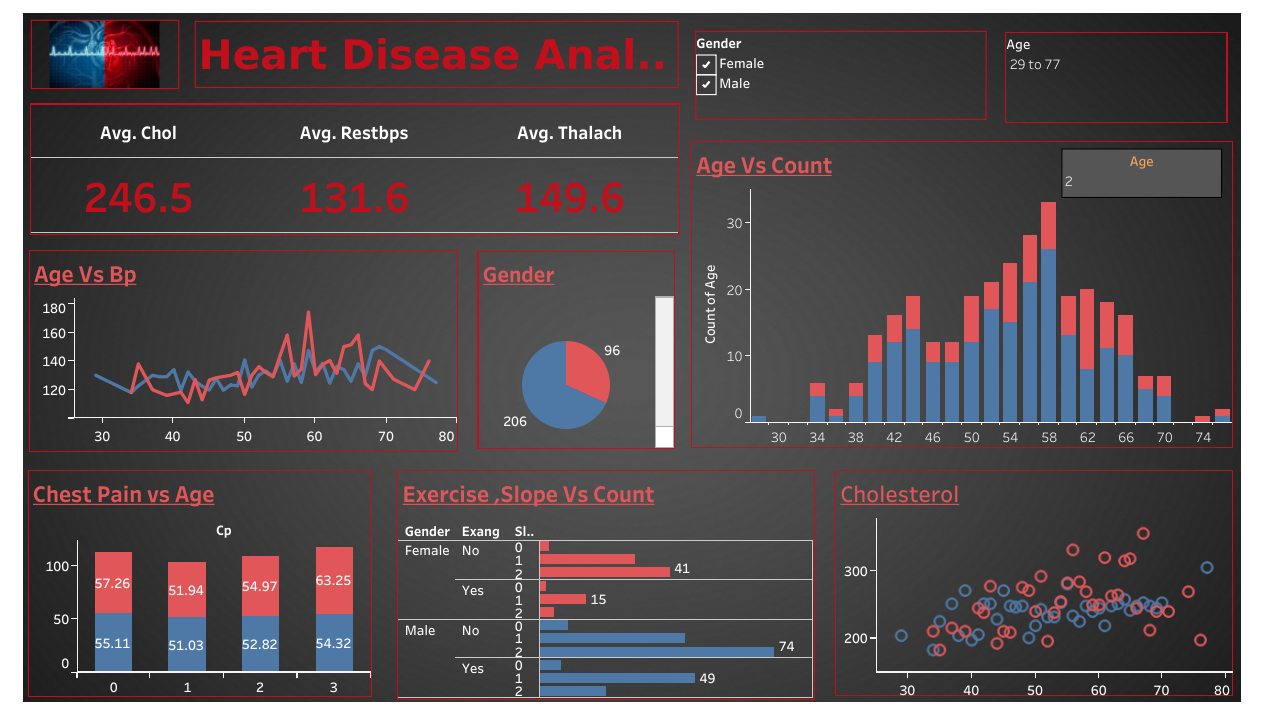

Layout of this report page (visuals, bound fields, positions):
{"tool":"tableau","page":{"name":"Dashboard ","canvas":[1150,650],"ordinal":0},"visuals":[{"type":"image","param":"Image/862202.png","box":[8,8,1134,634]},{"type":"image","param":"Image/HD.jpeg","box":[28,18,135,63]},{"type":"text","box":[177,19,440,61]},{"type":"filter","title":"Gender","param":"[federated.1k27b6g04bp0hz1cefajt1oc7rvm].[none:Calculation_1382323671827972097:n","box":[632,28,265,81]},{"type":"filter","title":"Age Vs Count","param":"[federated.1k27b6g04bp0hz1cefajt1oc7rvm].[none:age:qk]","box":[914,29,202,83]},{"type":"worksheet","title":"KPI","mark":"Automatic","box":[27,94,591,120]},{"type":"worksheet","title":"Age Vs Count","mark":"Bar","rows":["age"],"cols":["Age (bin)"],"box":[628,128,493,279]},{"type":"parameter","param":"[Parameters].[Parameter 1]","box":[965,135,146,45]},{"type":"worksheet","title":"Age Vs Bp","mark":"Automatic","rows":["trestbps"],"cols":["age"],"box":[26,227,390,184]},{"type":"worksheet","title":"Gender","mark":"Pie","box":[434,228,180,180]},{"type":"worksheet","title":"Chest Pain vs Age","mark":"Bar","rows":["age"],"cols":["cp"],"box":[25,427,313,207]},{"type":"worksheet","title":"Exercise ,Slope Vs Count","mark":"Automatic","rows":["Calculation_1382323671827972097","exang","slope"],"cols":["Gender (copy)_1382323671828434946"],"box":[361,427,380,209]},{"type":"worksheet","title":"Cholostrole","mark":"Shape","rows":["chol"],"cols":["age"],"box":[759,427,362,206]}]}

Visuals, with their boxes in screenshot pixels (x1, y1, x2, y2), scaled from the page's 1150x650 canvas onto the 1264x714 screenshot:
image: box=[9, 9, 1255, 705]
image: box=[31, 20, 179, 89]
text: box=[195, 21, 678, 88]
"Gender" filter: box=[695, 31, 986, 120]
"Age Vs Count" filter: box=[1005, 32, 1227, 123]
"KPI" worksheet: box=[30, 103, 679, 235]
"Age Vs Count" worksheet (Bar marks): box=[690, 141, 1232, 447]
parameter: box=[1061, 148, 1221, 198]
"Age Vs Bp" worksheet: box=[29, 249, 457, 451]
"Gender" worksheet (Pie marks): box=[477, 250, 675, 448]
"Chest Pain vs Age" worksheet (Bar marks): box=[27, 469, 372, 696]
"Exercise ,Slope Vs Count" worksheet: box=[397, 469, 814, 699]
"Cholostrole" worksheet (Shape marks): box=[834, 469, 1232, 695]
